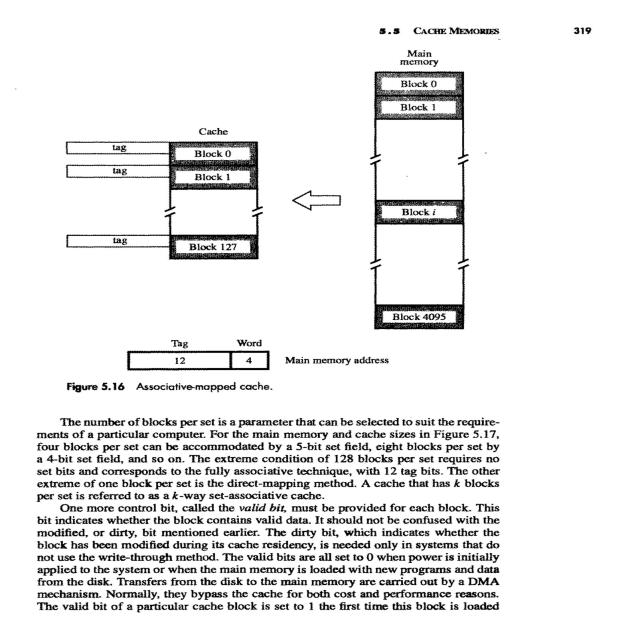diagram: (38, 39, 510, 407)
